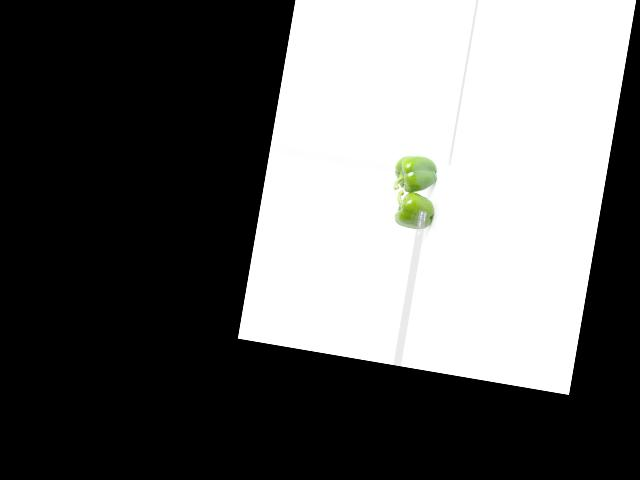bell_pepper: (389, 152, 445, 196)
